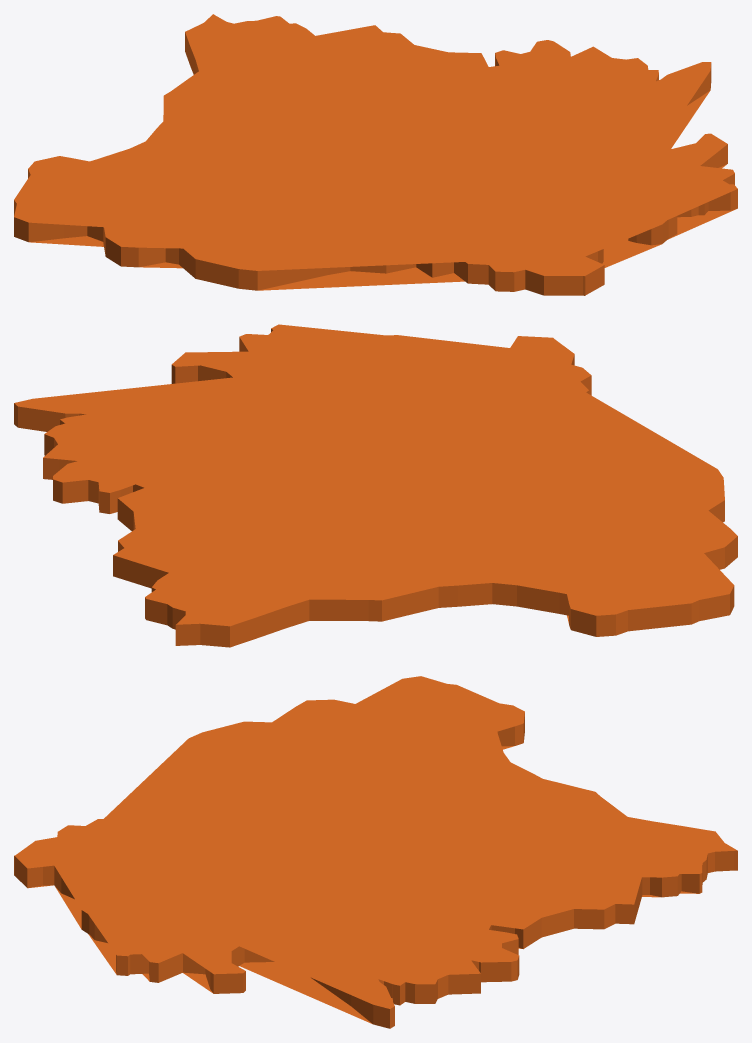
File: rajasthan.fbx
3 views of the same model, one above another, from view 1: azimuth 30°, elevation 25°; view 2: azimuth 150°, elevation 25°; view 3: azimuth 270°, elevation 25° (orthographic). The views are drawn at different scales.
Visible parts, largest first — view 1: Rajasthan; view 2: Rajasthan; view 3: Rajasthan.
Part boxes in pixels (x1,y1,x2,y2): Rajasthan: (14,14,737,295); Rajasthan: (14,324,737,647); Rajasthan: (14,676,737,1028).
Bounding box in the file's own units: 125 × 3.47 × 115.
